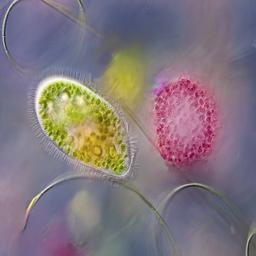Paramecium: (34, 74, 132, 178)
